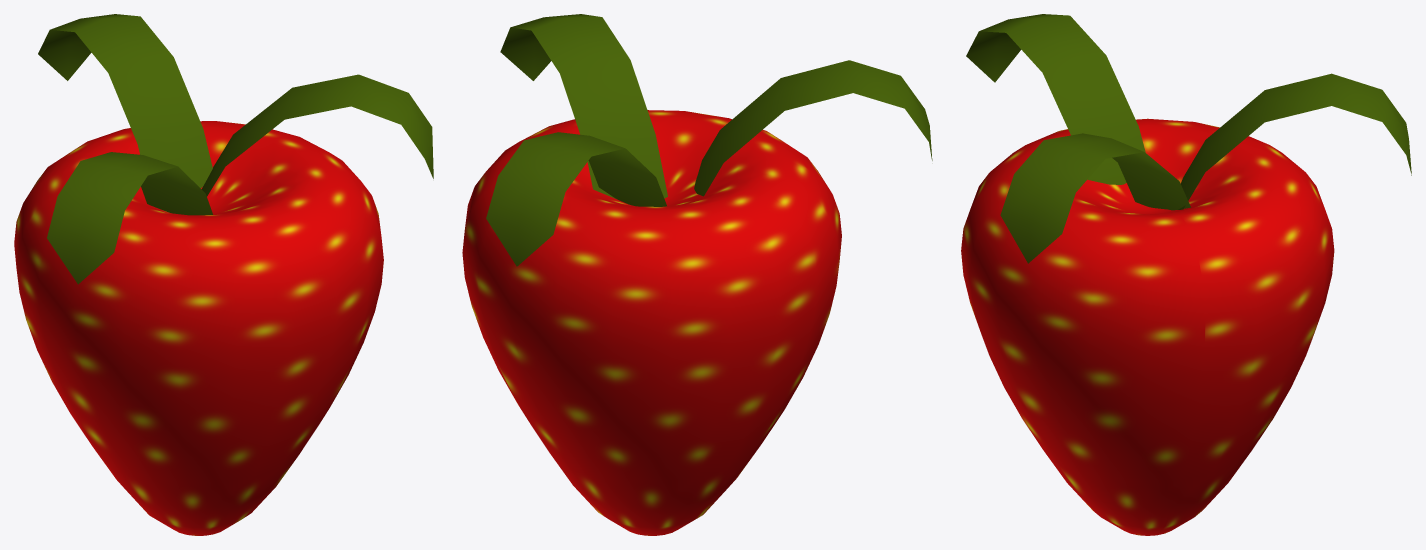
The model's file is strawberry.fbx.
3 renders of one model, left to right at view 1: azimuth 30°, elevation 25°; view 2: azimuth 150°, elevation 25°; view 3: azimuth 270°, elevation 25°, orthographic. The views are drawn at different scales.
Parts seen in each view (by area): view 1: pSphere1, pPlane3, pPlane4, pPlane2; view 2: pSphere1, pPlane2, pPlane3, pPlane4; view 3: pSphere1, pPlane4, pPlane2, pPlane3.
Boxes of the visible parts, x1,y1,x2,y2 form: pSphere1: (14, 121, 383, 535); pPlane3: (38, 14, 212, 188); pPlane4: (47, 152, 212, 284); pPlane2: (201, 74, 433, 196); pSphere1: (462, 110, 841, 535); pPlane2: (500, 14, 667, 198); pPlane3: (486, 132, 666, 266); pPlane4: (694, 60, 932, 196); pSphere1: (961, 118, 1334, 535); pPlane4: (966, 14, 1145, 184); pPlane2: (1000, 133, 1190, 263); pPlane3: (1178, 73, 1411, 209).
Bounding box in the file's own units: 1085 × 1144 × 1051.
